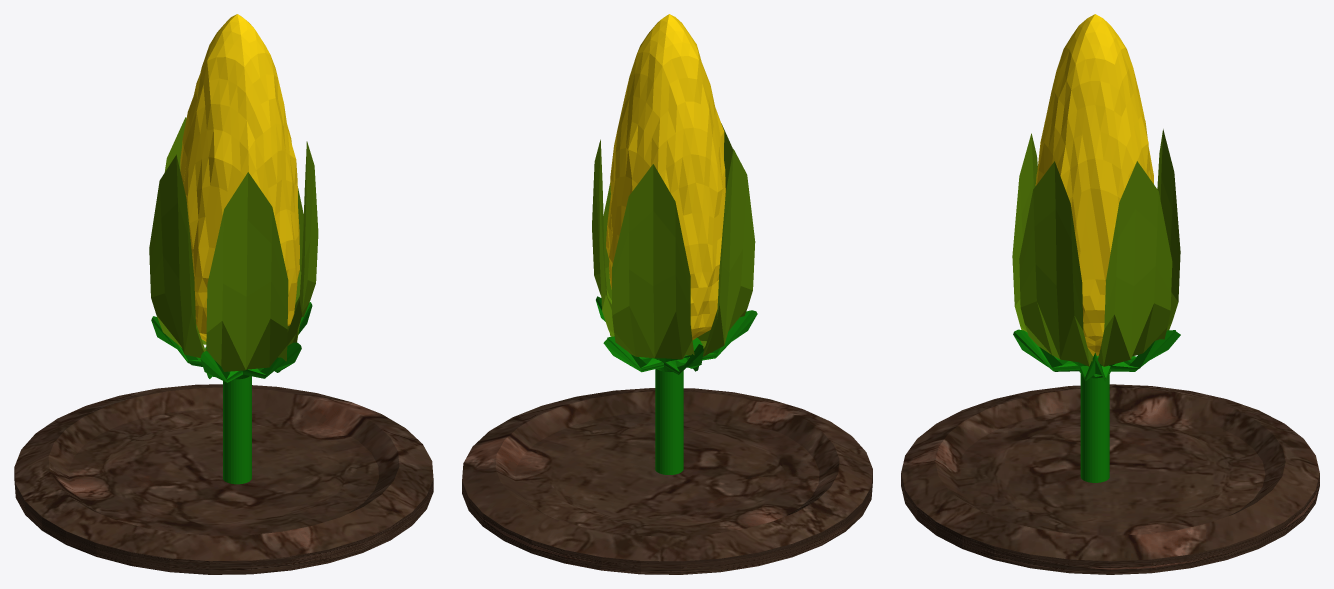
The model's file is corn2.fbx.
3 renders of one model, left to right at view 1: azimuth 30°, elevation 25°; view 2: azimuth 150°, elevation 25°; view 3: azimuth 270°, elevation 25°, orthographic.
Visible parts, largest first — view 1: Cylinder.007; view 2: Cylinder.007; view 3: Cylinder.007.
Boxes of the visible parts, left/top/right/bottom form: Cylinder.007: left=14, top=14, right=433, bottom=574; Cylinder.007: left=462, top=14, right=872, bottom=574; Cylinder.007: left=901, top=14, right=1319, bottom=574.
Size of the model in its own units: 20 by 26.91 by 20.
